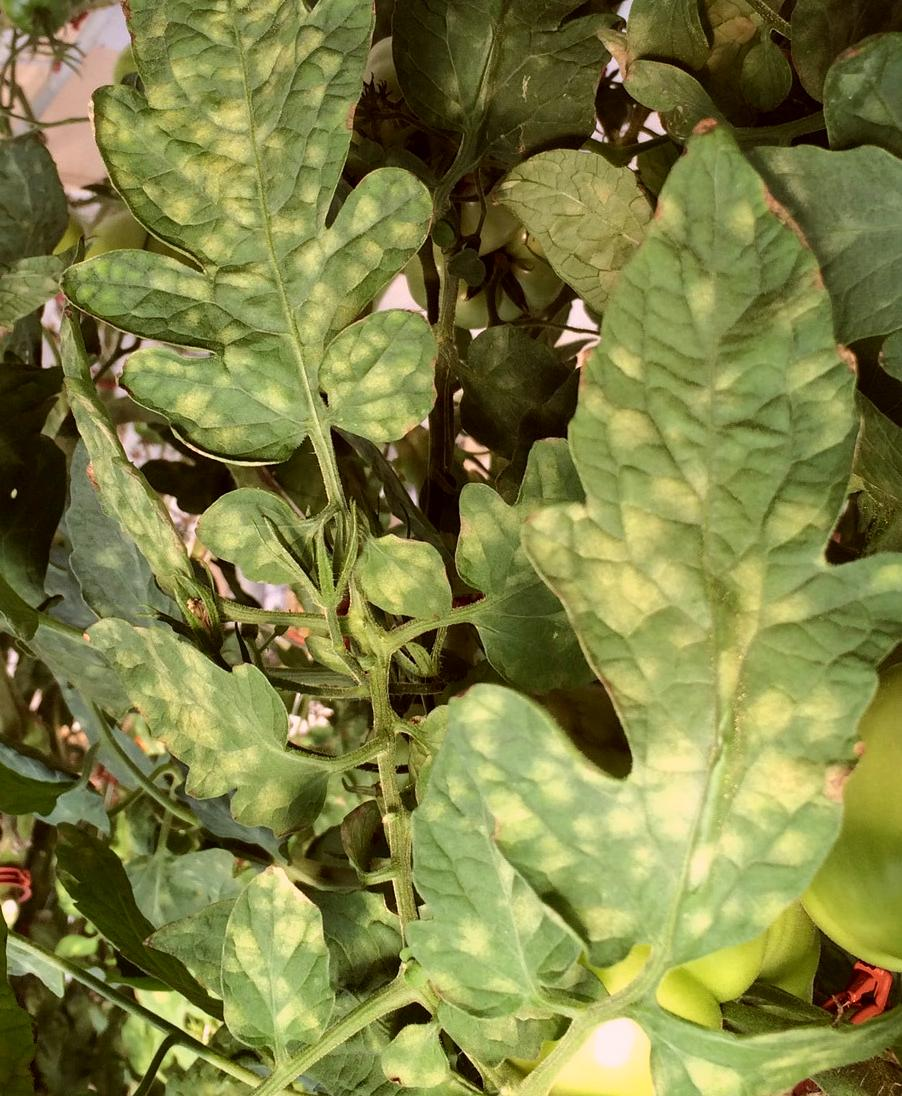Tomato mold leaf: (480, 127, 877, 960), (64, 0, 434, 468), (79, 607, 368, 834), (405, 807, 598, 1036), (499, 142, 666, 349), (216, 848, 331, 1052), (650, 1004, 897, 1096), (350, 521, 461, 620), (191, 487, 297, 588)
